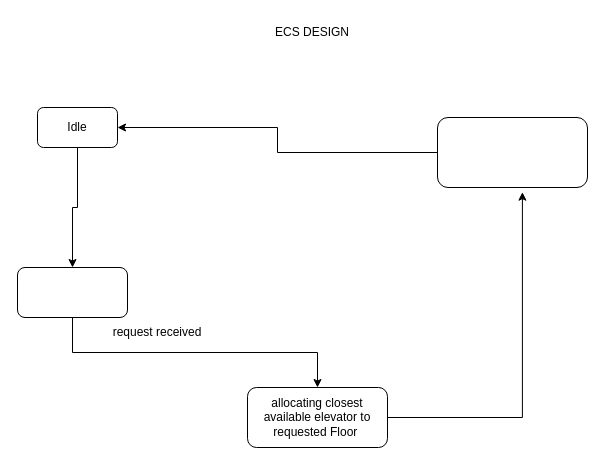
Some shapes in this 605 by 465 pixel diagram are drawn without their labels. The shapes that lost their labels are listed below. From the top down, each one's box as (x1, y1, x2, y2) in pixels, then its label:
(436, 116, 588, 188): send allocated elevator to requested floor
(16, 266, 128, 318): Waiting for elevator request
